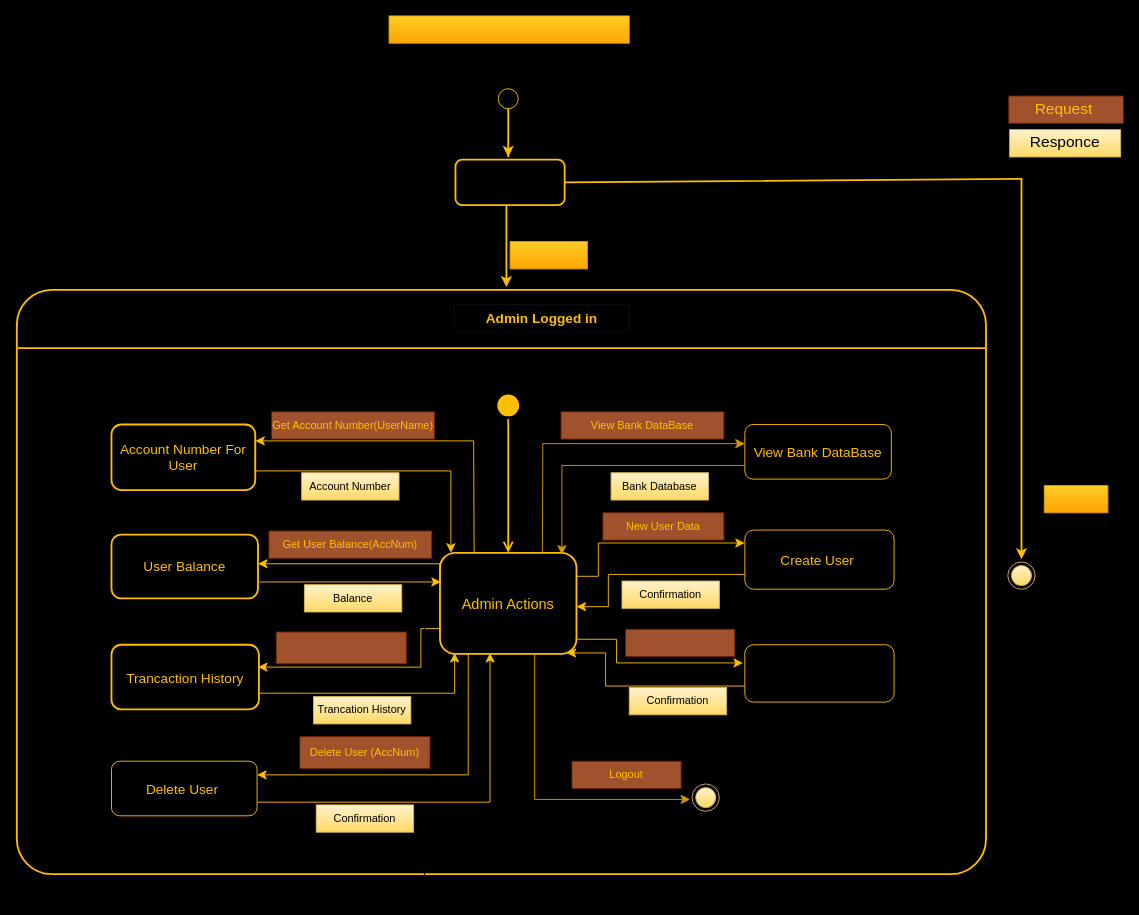
This 1139x915 diagram has some shape labels left out. Each missing label, with the box of its shape:
Admin Login: (454, 158, 565, 206)
Admin State Diagram: (388, 15, 629, 43)
Get Tranction History(AccNum): (275, 631, 406, 664)
Login Failed: (1043, 485, 1108, 513)
Login Successful: (509, 241, 587, 269)
Update User Data: (744, 644, 894, 702)
Updated Data: (625, 628, 735, 657)
